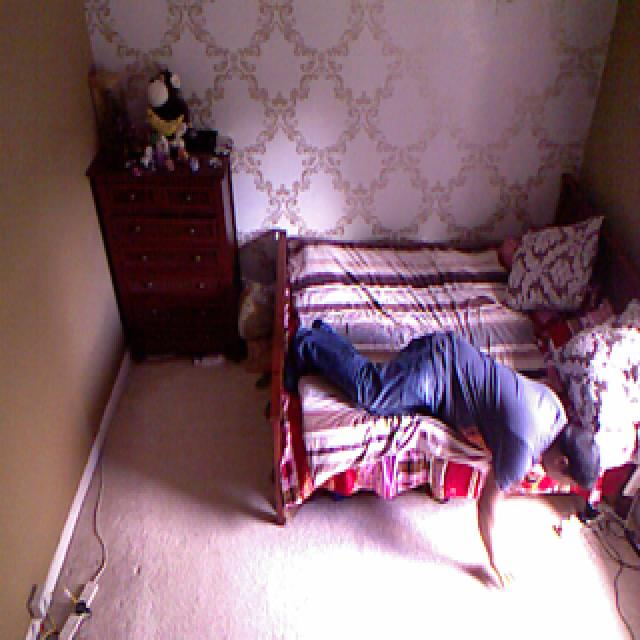lying: (272, 314, 608, 583)
